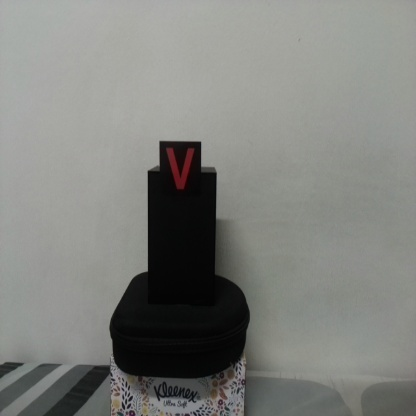id_11: (159, 141, 201, 201)
